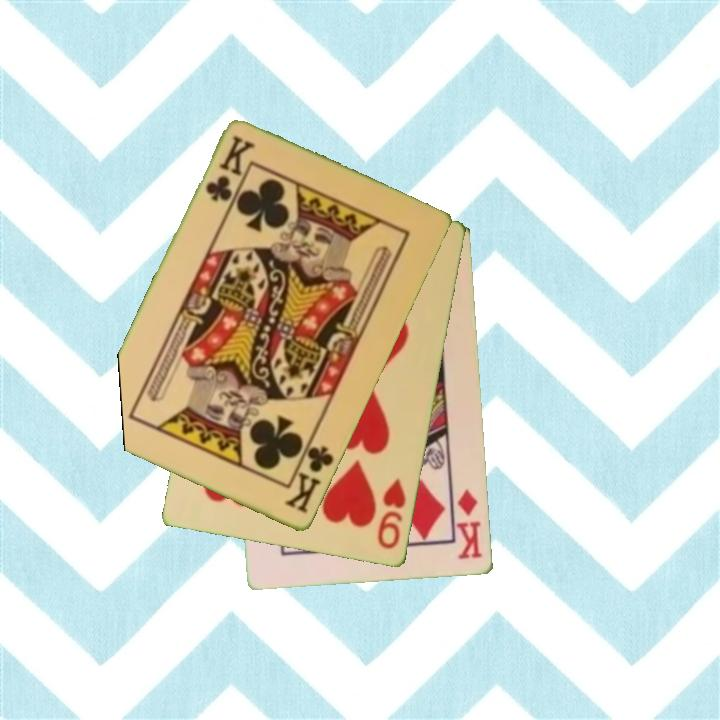9h: (374, 475, 409, 553)
Kc: (281, 435, 337, 517), (202, 132, 257, 205)
Kd: (452, 487, 485, 562)
